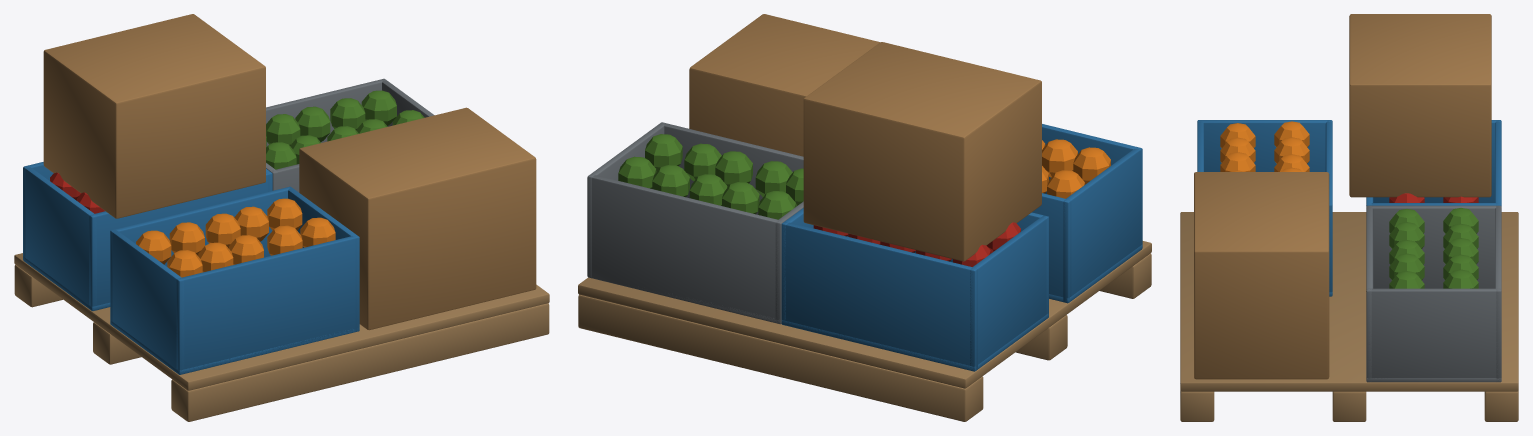
Rendered from marlin_crates.glb.
3 renders of one model, left to right at view 1: azimuth 30°, elevation 25°; view 2: azimuth 150°, elevation 25°; view 3: azimuth 270°, elevation 25°, orthographic. The views are drawn at different scales.
Visible parts, largest first — view 1: marlin_crates; view 2: marlin_crates; view 3: marlin_crates.
Part boxes in pixels (<box>): marlin_crates: <box>14,14,549,421</box>; marlin_crates: <box>578,14,1151,421</box>; marlin_crates: <box>1180,14,1518,421</box>.
Bounding box in the file's own units: 1.2 × 0.8 × 1.
